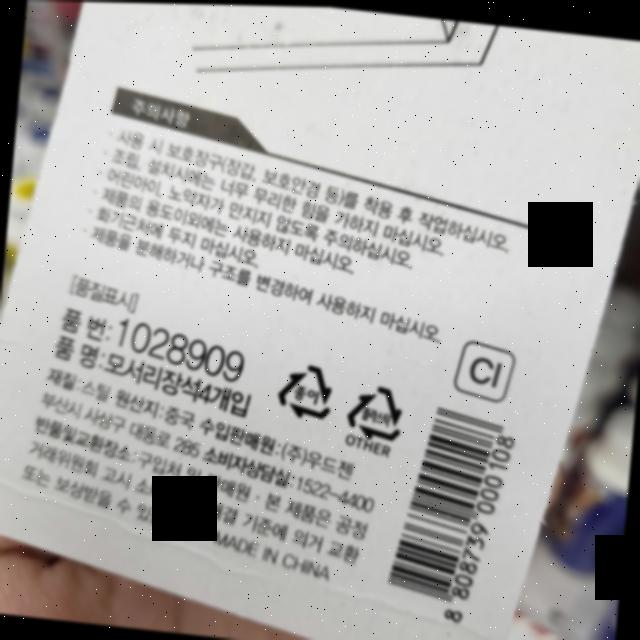Paper: (274, 358, 338, 422)
Plastic: (343, 378, 406, 441)
